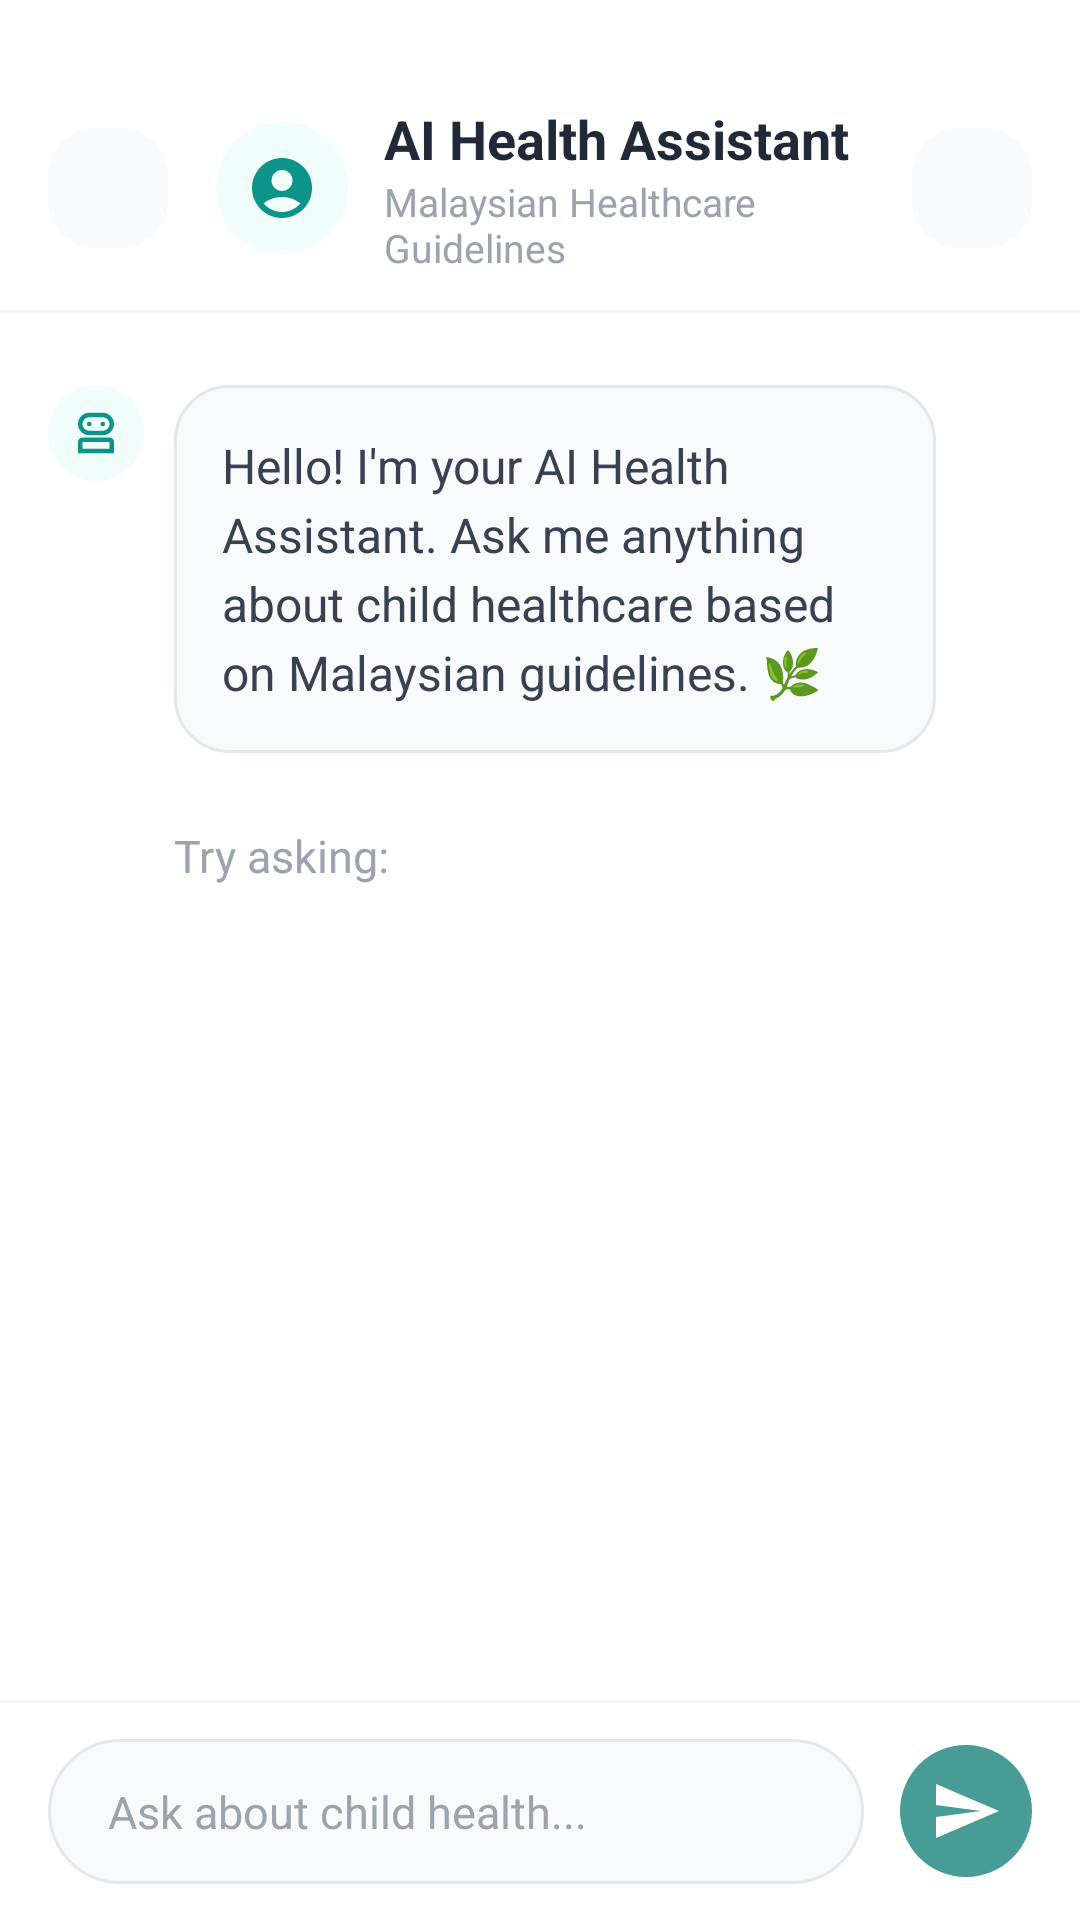

Named icons in this screenshot (1080 × 1920) and their centers, (x=x, y=y):
Send Message: (x=966, y=1811)
